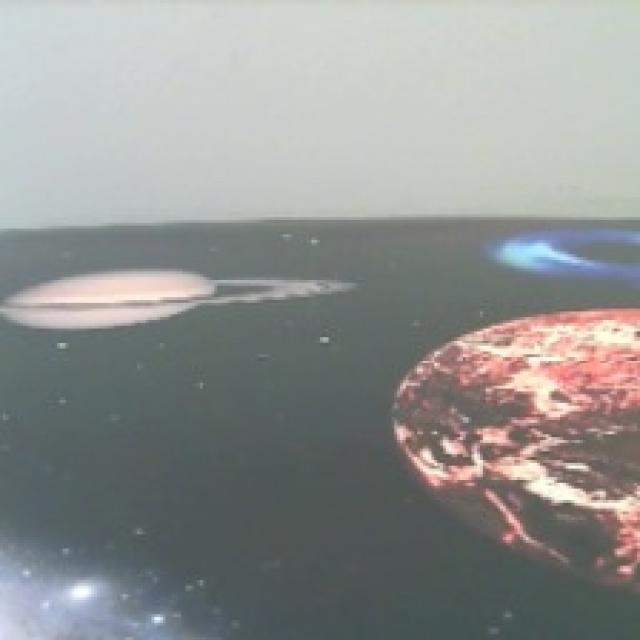Black Hole: (485, 227, 640, 284)
Saturn: (0, 260, 351, 328)
Sun: (389, 308, 640, 597)
